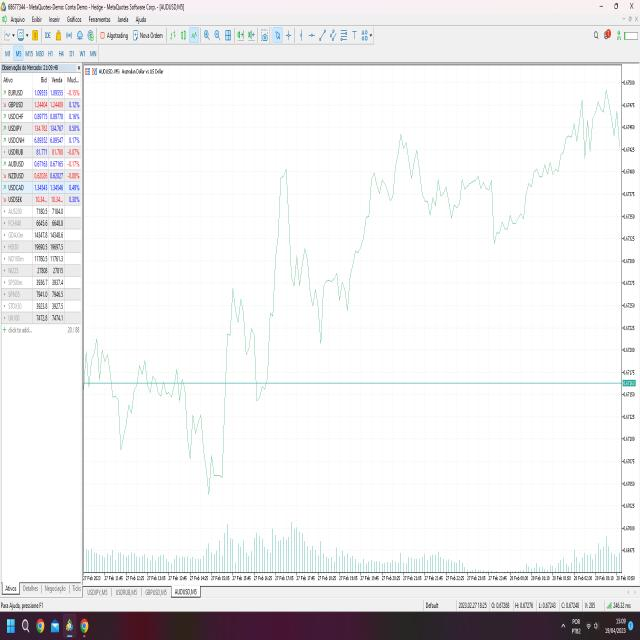bandeira_baixa: (284, 148, 316, 296)
fundo_duplo: (304, 236, 364, 363)
oco_inv: (106, 372, 141, 460)
